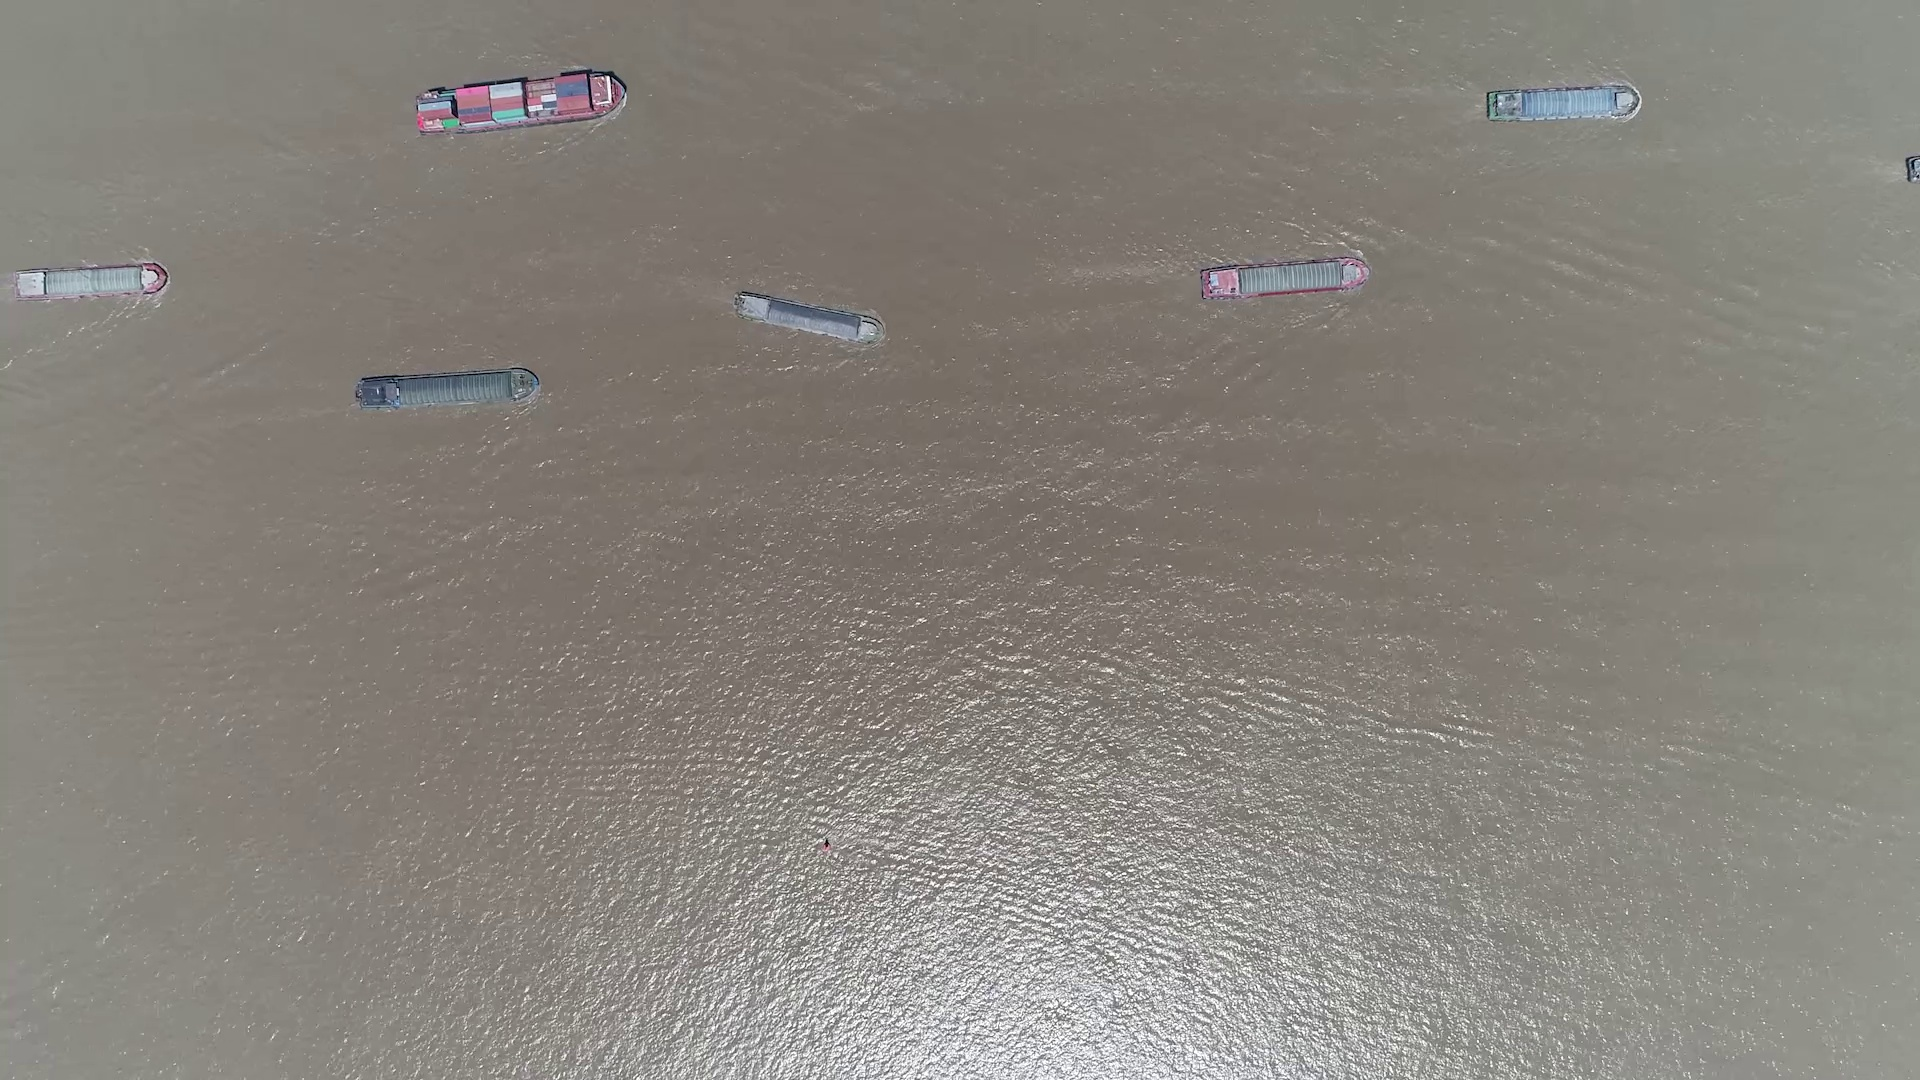ship: (415, 74, 626, 135), (731, 290, 880, 344), (1199, 257, 1367, 301), (357, 369, 541, 409), (1487, 86, 1640, 121), (13, 264, 166, 297)
